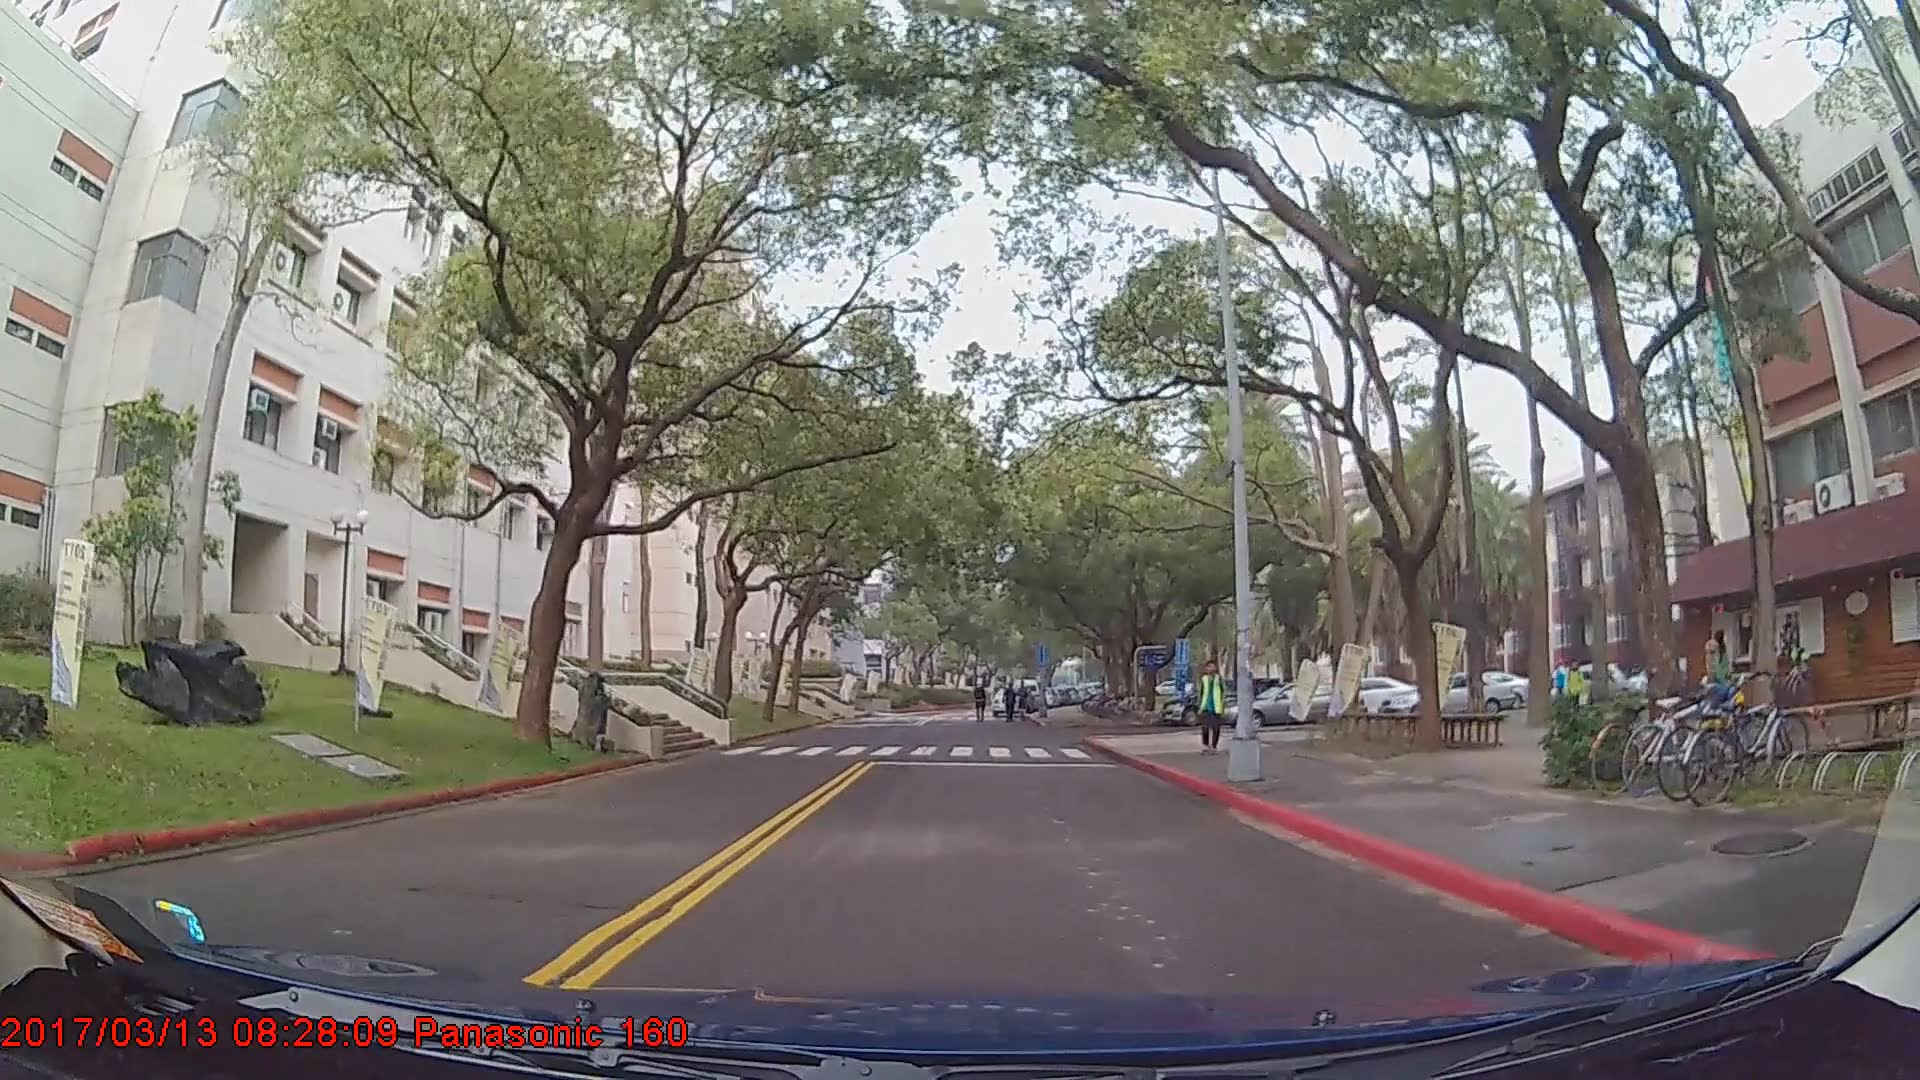pedestrian: (1191, 656, 1227, 753), (1563, 660, 1587, 721), (1001, 683, 1021, 726)
vehicle: (1226, 680, 1367, 732), (1377, 671, 1514, 723)
